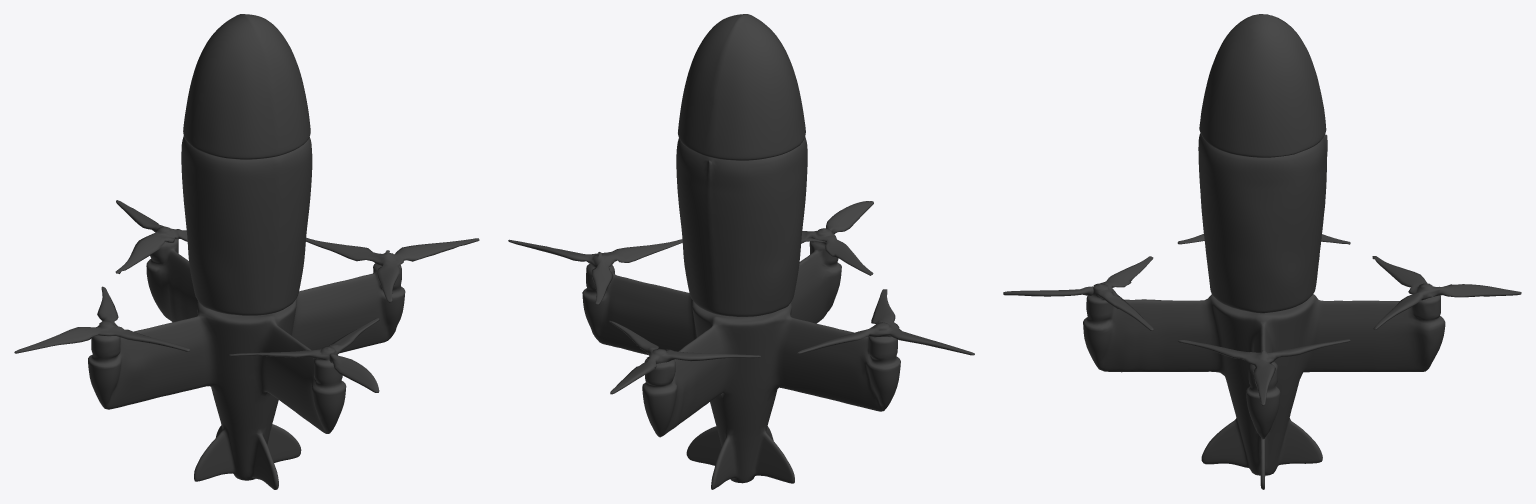
3 renders of one model, left to right at view 1: azimuth 30°, elevation 25°; view 2: azimuth 150°, elevation 25°; view 3: azimuth 270°, elevation 25°, orthographic.
Visible parts, largest first — view 1: root.0; view 2: root.0; view 3: root.0.
Part boxes in pixels (x1,y1,x2,y2): root.0: (14,14,479,489); root.0: (508,14,974,489); root.0: (1003,14,1521,489).
Size of the model in its own units: 1.9 by 1.8 by 1.85.
1 material, 1 textured.
